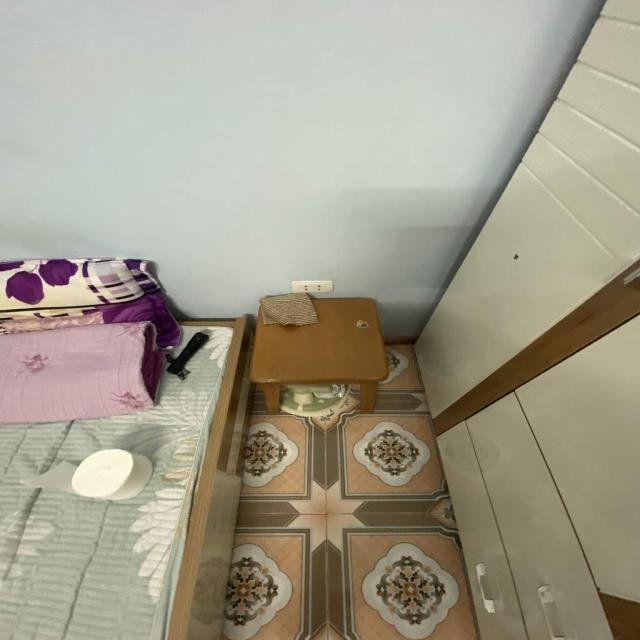outlet: (291, 279, 333, 293)
